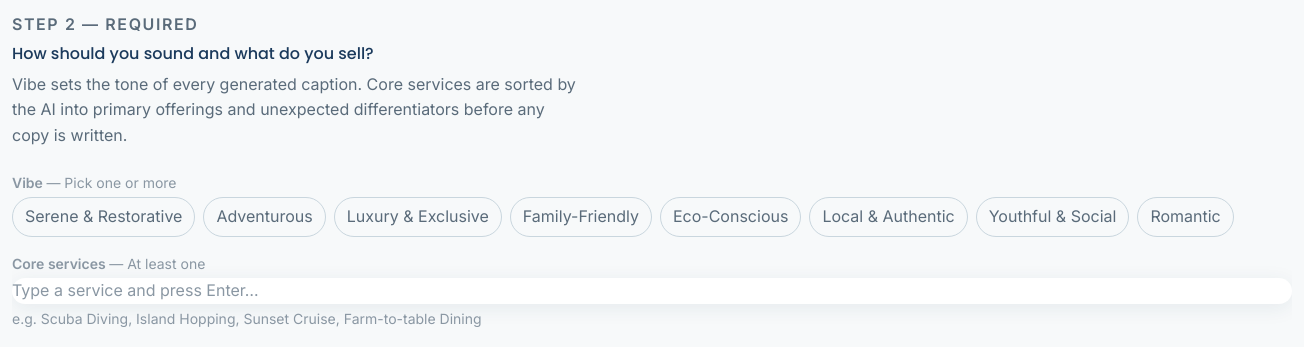
Scenario: BrandIdentityStep — vibe/service gate and tag add/remove › satisfies the >=1 vibe / >=1 service gate once one of each is set
The width and height of the screenshot is (1304, 347).
Click the button "Eco-Conscious" at (731, 217), box [660,197,801,237]
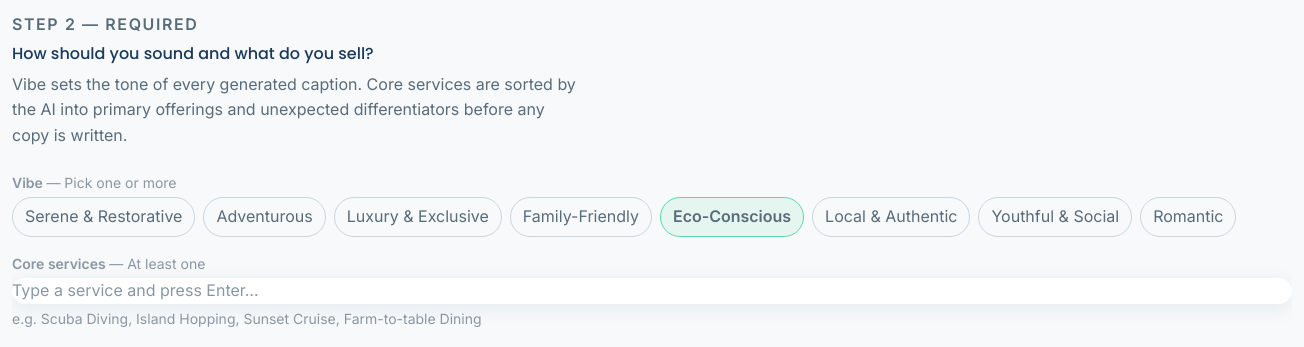
Result: the button "Eco-Conscious" is pressed at [660,197,804,237]
Type "Farm-to-table Dining" into the field with placeholder "Type a service and press Enter…" at (652, 291), box [12,278,1292,304]
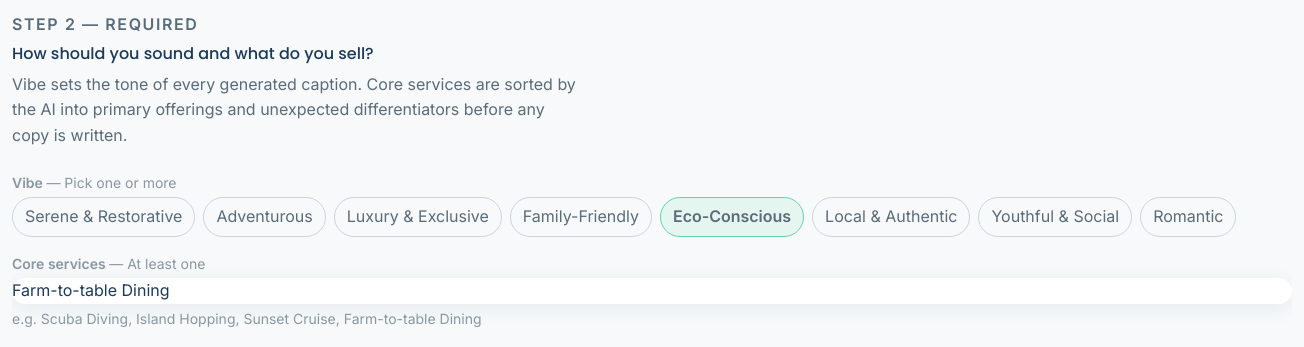
Press Enter in the field with placeholder "Type a service and press Enter…", box [12,278,1292,304]
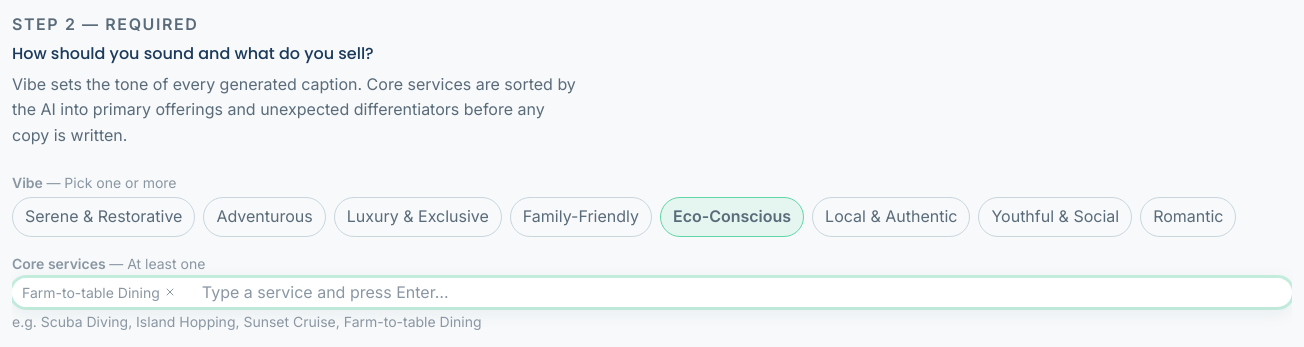
Result: the text "Farm-to-table Dining" is shown at [12,278,186,307]
